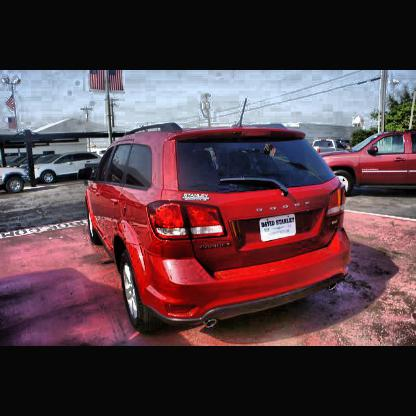Dodge Journey SUV 2012: (87, 123, 352, 333)
